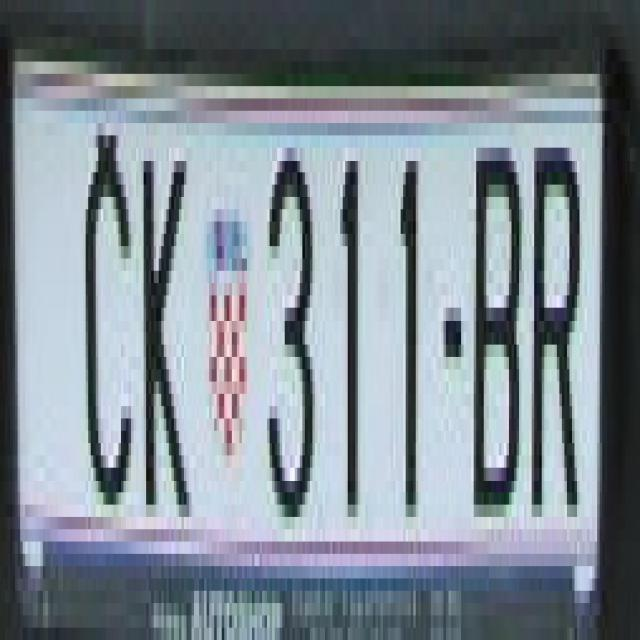1: (332, 123, 362, 504), (393, 136, 421, 530)
3: (257, 160, 315, 542)
B: (468, 123, 520, 504)
C: (80, 111, 138, 517)
K: (141, 110, 192, 542)
